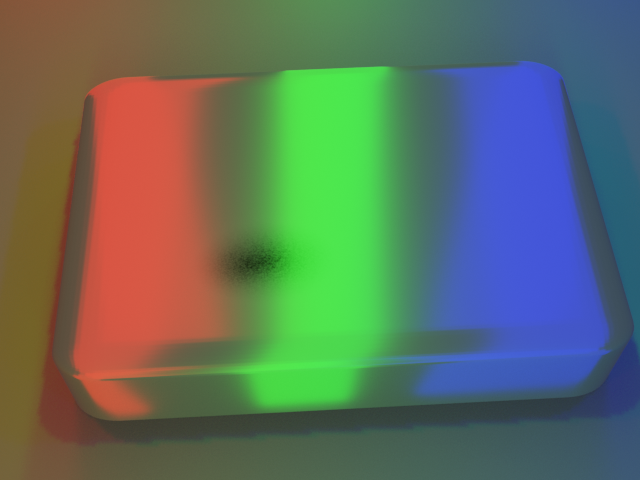stain: (140, 199, 370, 333)
